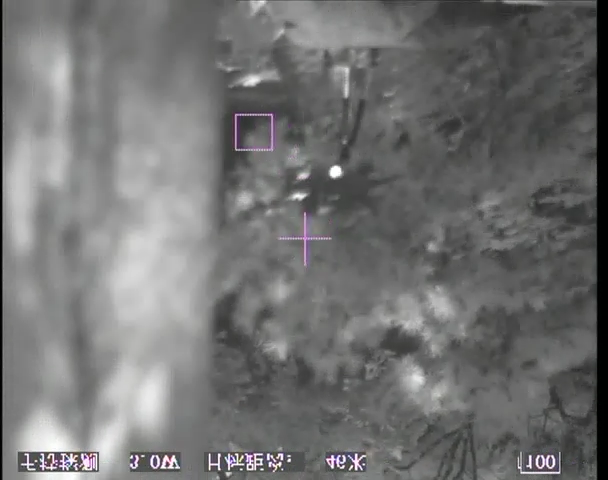my: (327, 164, 343, 181)
